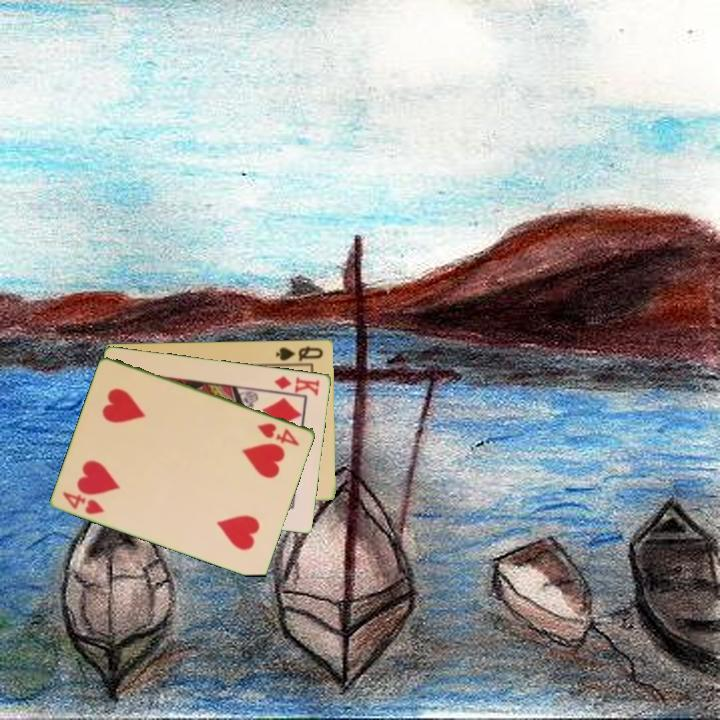4h: (254, 419, 303, 449), (60, 488, 108, 517)
Kd: (271, 372, 323, 398)
Qs: (273, 342, 326, 364)
